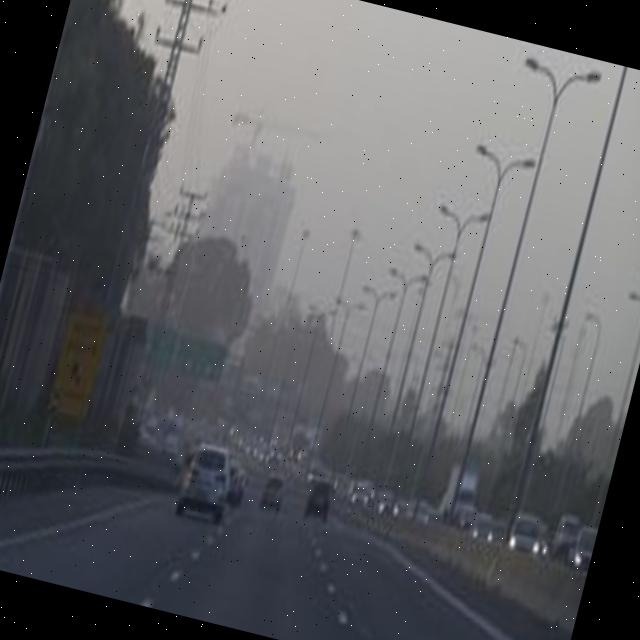bus: (440, 462, 484, 525), (542, 508, 583, 556)
car: (177, 444, 240, 522), (506, 513, 546, 557), (564, 522, 598, 570), (304, 478, 334, 518), (226, 456, 248, 502), (264, 469, 288, 508), (469, 509, 497, 542), (375, 486, 403, 514)
